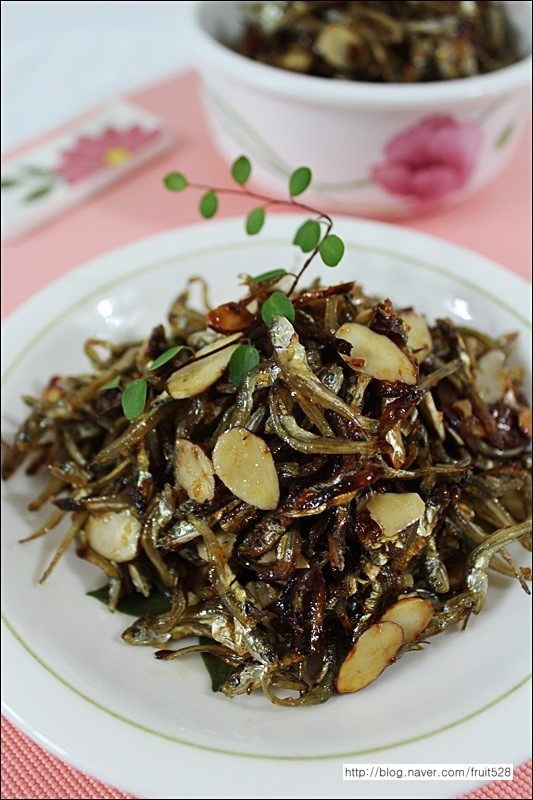myeolchibokk-eum: (5, 273, 533, 712)
